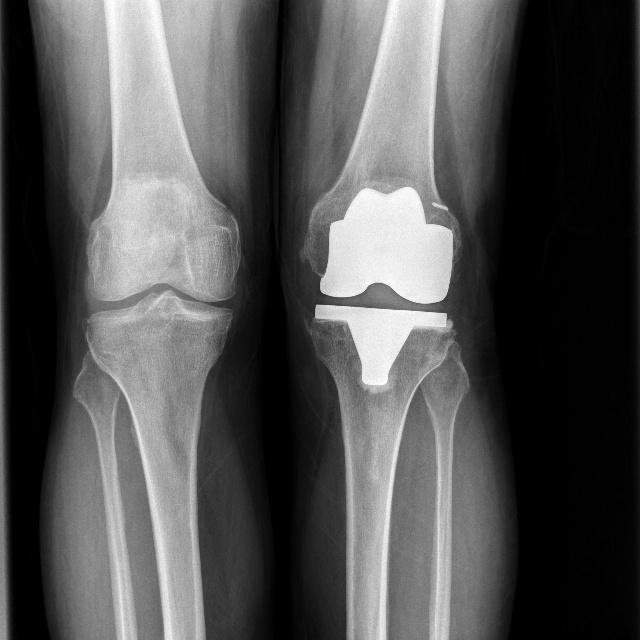Knee: (300, 228, 461, 375), (80, 228, 242, 360)
